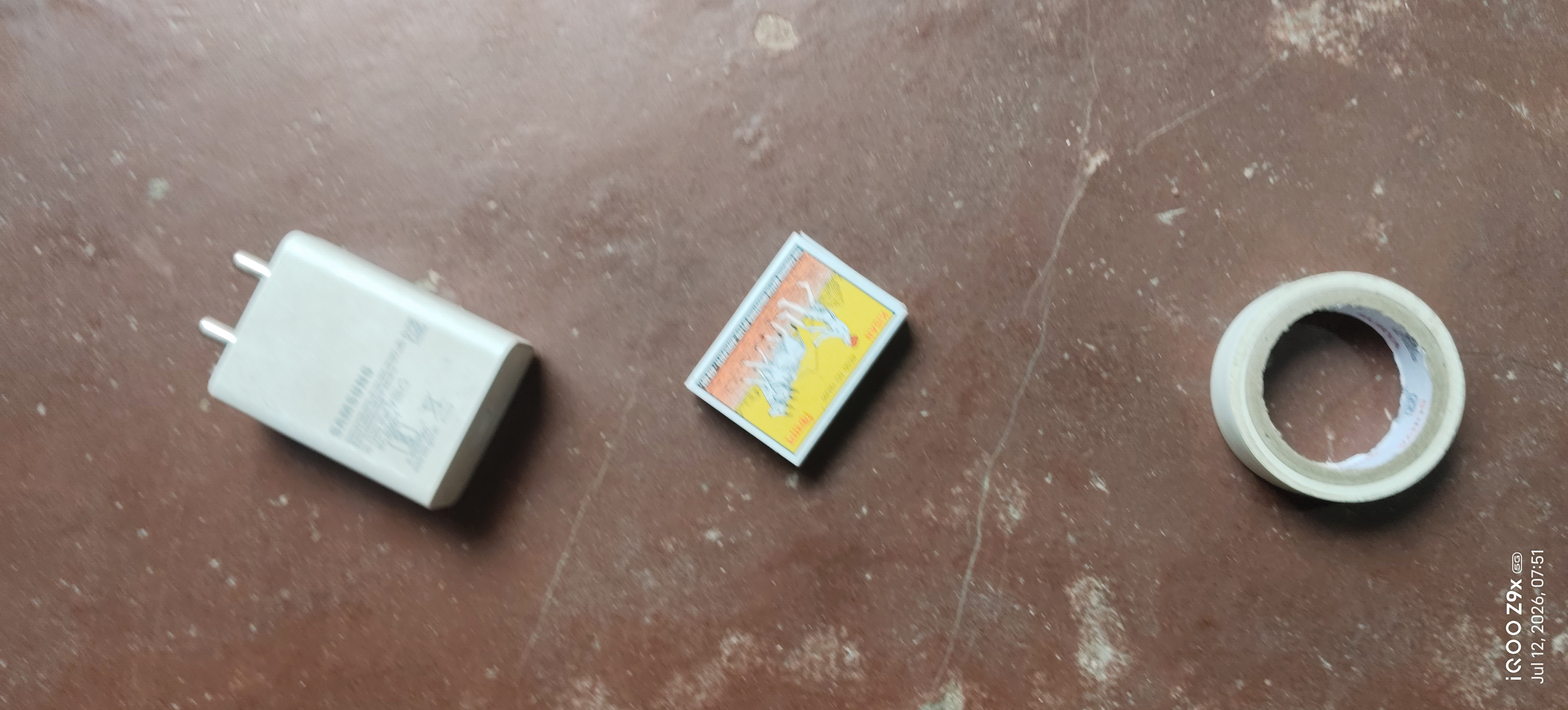charger: (168, 185, 573, 554)
matchbox: (656, 208, 933, 507)
tape_roll: (1191, 260, 1487, 545)
